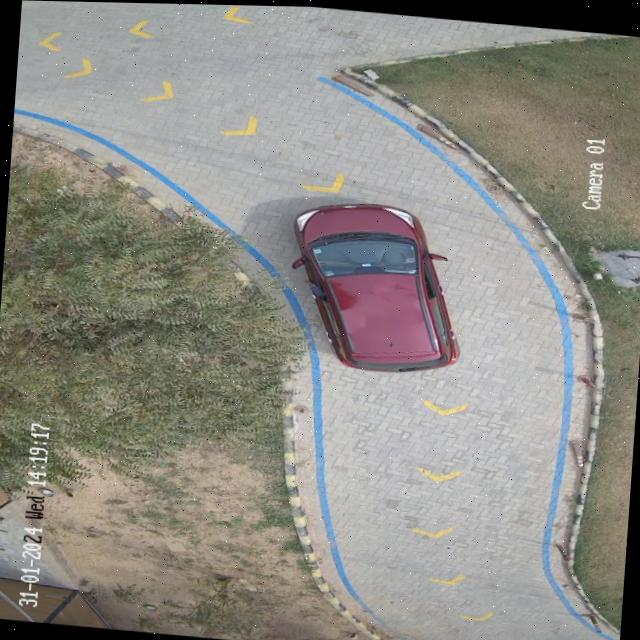car: (293, 201, 456, 369)
